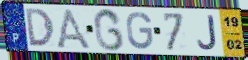7: (163, 12, 186, 52)
A: (54, 7, 94, 51)
D: (24, 7, 56, 48)
G: (92, 8, 126, 53), (125, 10, 155, 51)
J: (196, 14, 219, 51)
